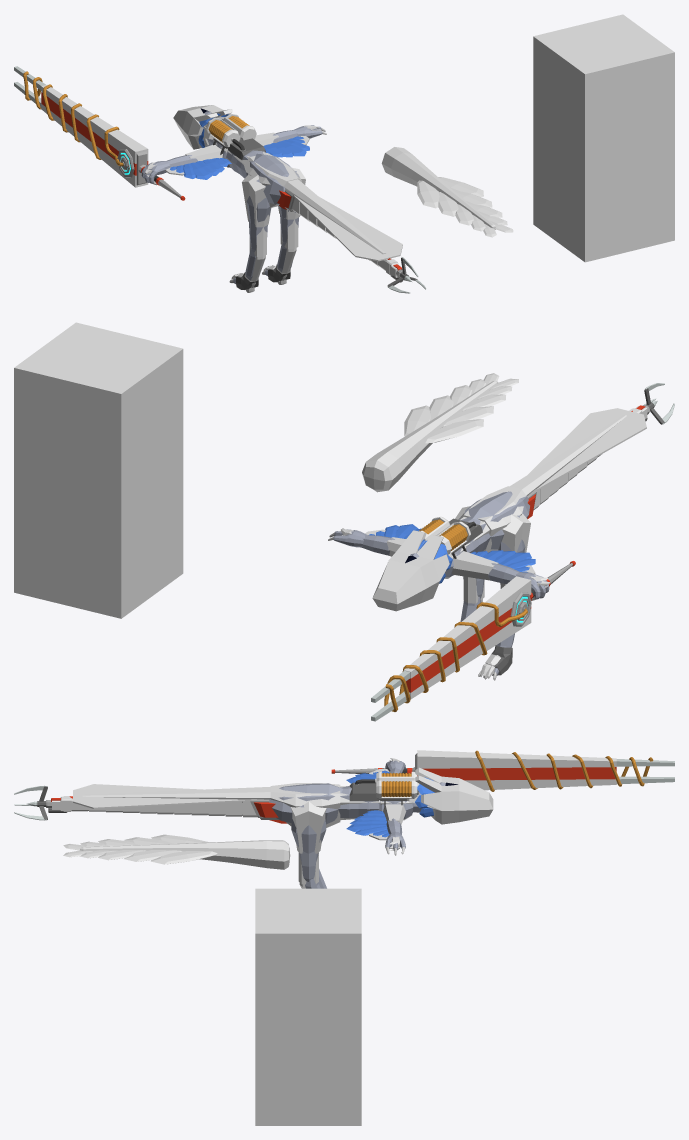
The model's file is Dinosaur!.fbx.
The picture shows the model from 3 angles, top to bottom: view 1: azimuth 30°, elevation 25°; view 2: azimuth 150°, elevation 25°; view 3: azimuth 270°, elevation 25°; orthographic projection. The views are drawn at different scales.
Visible parts, largest first — view 1: Cube, Cube.051, Cube.004, Cube.011, Cube.001, BézierCurve, Cube.003, Cube.008, LegThigh, Cube.028, Pelvis1, LegShin (+5 smaller); view 2: Cube, Cube.051, Cube.001, Cube.011, Cube.004, BézierCurve, Cube.003, Cube.008, Cube.028, ArmBicep, Pelvis1, Cube.027 (+2 smaller); view 3: Cube, Cube.051, Cube.001, Cube.011, Cube.004, Cube.003, Cube.008, Pelvis1, BézierCurve, LegThigh, Cube.028, Cube.027 (+1 smaller).
Part boxes in pixels (x1,y1,x2,y2): Cube: (533, 14, 674, 262); Cube.051: (14, 66, 148, 187); Cube.004: (294, 195, 402, 261); Cube.011: (381, 147, 495, 229); Cube.001: (173, 105, 232, 149); BézierCurve: (23, 71, 123, 166); Cube.003: (284, 179, 385, 254); Cube.008: (246, 153, 299, 204); LegThigh: (242, 167, 305, 227); Cube.028: (417, 177, 483, 208); Pelvis1: (244, 153, 301, 207); LegShin: (249, 219, 298, 256); Cube: (14, 322, 183, 618); Cube.051: (371, 576, 531, 721); Cube.001: (372, 530, 452, 611); Cube.011: (362, 381, 498, 492); Cube.004: (528, 408, 646, 490); BézierCurve: (384, 602, 527, 711); Cube.003: (510, 414, 626, 495); Cube.008: (464, 491, 529, 549); Cube.028: (404, 405, 483, 443); ArmBicep: (387, 537, 498, 580); Pelvis1: (458, 486, 526, 552); Cube.027: (429, 395, 493, 426); Cube: (255, 888, 361, 1125); Cube.051: (415, 750, 674, 790); Cube.001: (407, 767, 493, 824); Cube.011: (80, 840, 290, 869); Cube.004: (73, 784, 251, 808); Cube.003: (82, 787, 270, 802); Cube.008: (269, 783, 342, 824); Pelvis1: (270, 783, 340, 827); BézierCurve: (475, 750, 653, 791); LegThigh: (290, 801, 326, 853); Cube.028: (151, 834, 217, 864); Cube.027: (124, 837, 181, 861).
Size of the model in its own units: 519 by 200 by 623.
